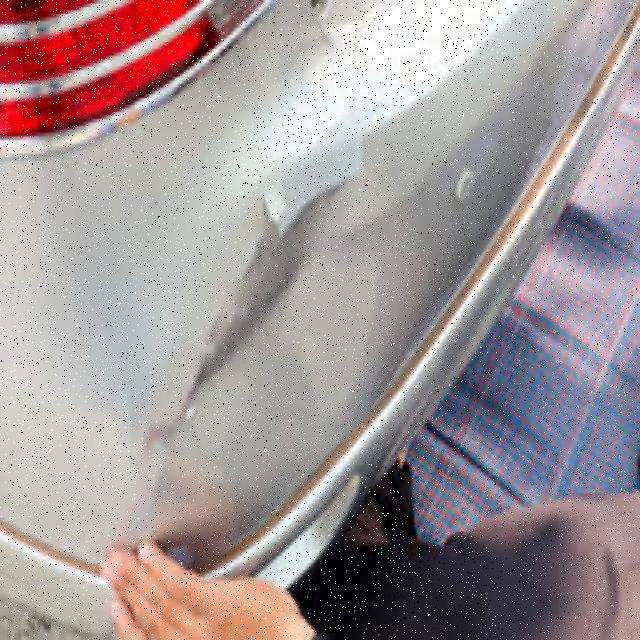rear-bumper-dent: (0, 0, 526, 636)
